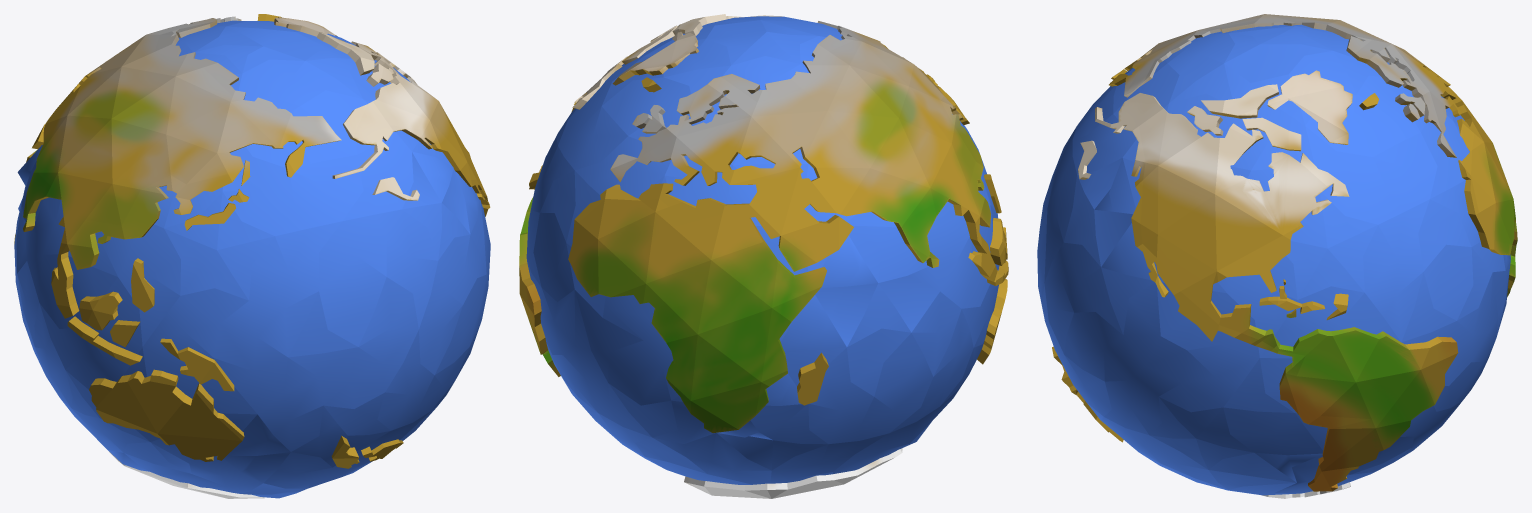
Rendered from EarthCartoon2.fbx.
3 renders of one model, left to right at view 1: azimuth 30°, elevation 25°; view 2: azimuth 150°, elevation 25°; view 3: azimuth 270°, elevation 25°, orthographic.
Parts seen in each view (by area): view 1: earthsss; view 2: earthsss; view 3: earthsss.
Boxes of the visible parts, x1,y1,x2,y2 form: earthsss: [14, 14, 490, 498]; earthsss: [519, 14, 1008, 498]; earthsss: [1037, 14, 1517, 498].
Size of the model in its own units: 413 by 407 by 407.
Materials: 1 (1 with a texture image).
